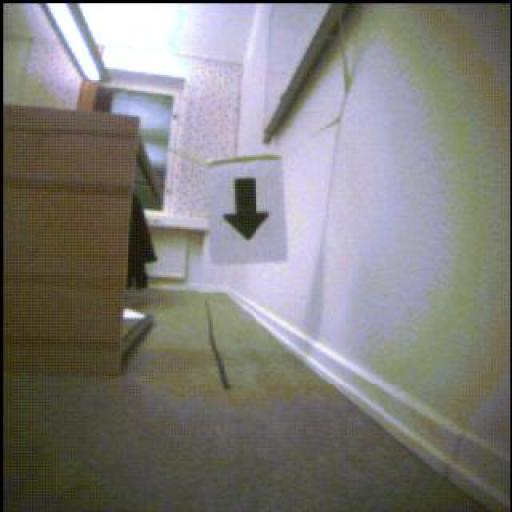arrow: (225, 179, 270, 241)
